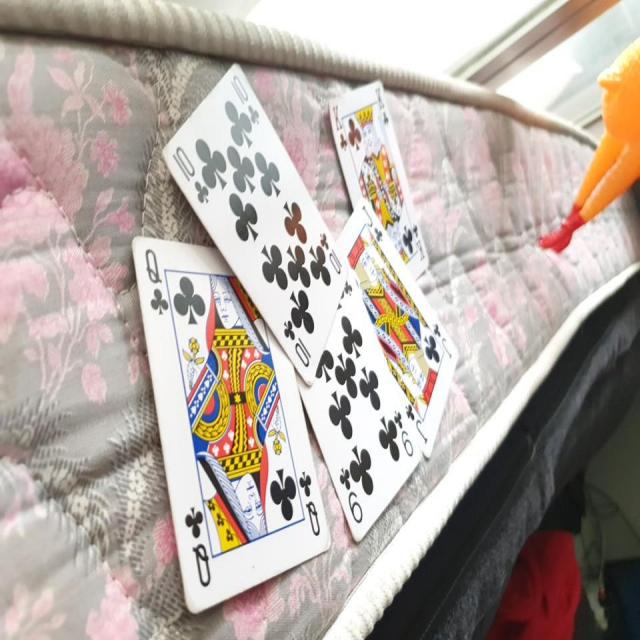10 Trefoils: (158, 61, 347, 387)
9 Trefoils: (296, 268, 426, 540)
J Trefoils: (337, 198, 460, 465)
K Trefoils: (329, 76, 431, 276)
Q Trefoils: (129, 235, 334, 614)
